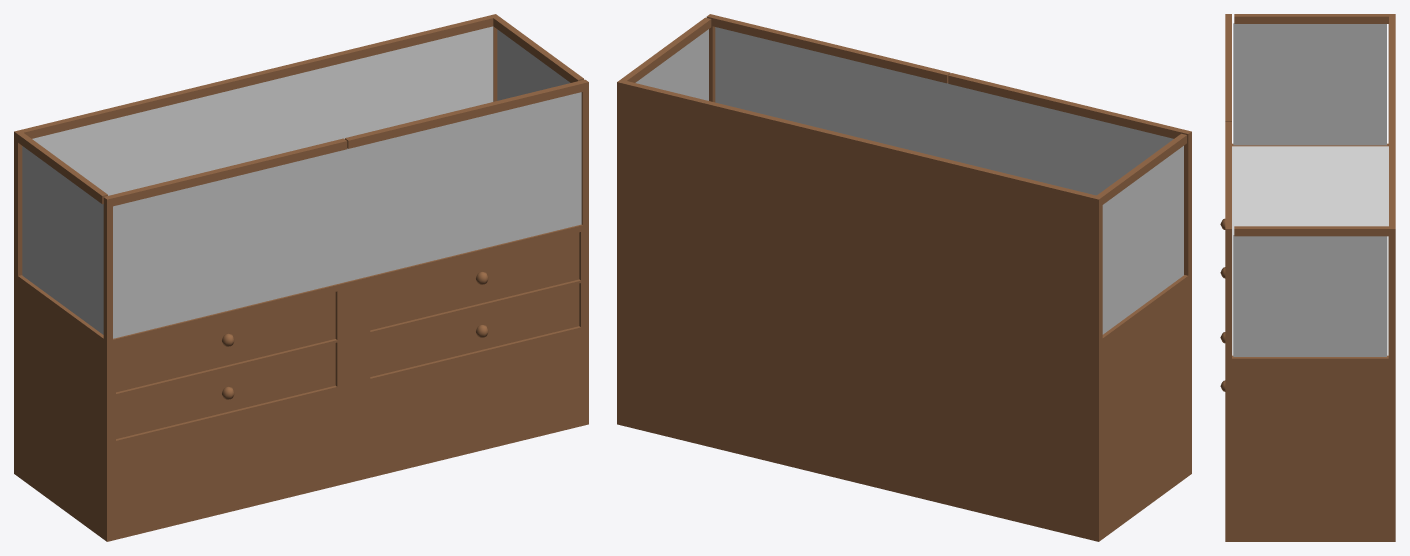
The model's file is DISPLAY 3.fbx.
3 renders of one model, left to right at view 1: azimuth 30°, elevation 25°; view 2: azimuth 150°, elevation 25°; view 3: azimuth 270°, elevation 25°, orthographic. The views are drawn at different scales.
Visible parts, largest first — view 1: Cube, Cube_1, Cube_4, Cube_5, Cube_3, Cube_2; view 2: Cube, Cube_1, Cube_3, Cube_2; view 3: Cube, Cube_3, Cube_2, Cube_5.
Boxes of the visible parts, x1,y1,x2,y2 form: Cube: (14,14,588,541); Cube_1: (113,92,581,338); Cube_4: (116,232,579,438); Cube_5: (32,26,493,195); Cube_3: (22,146,103,334); Cube_2: (497,29,570,100); Cube: (617,14,1191,541); Cube_1: (715,27,1173,195); Cube_3: (1102,146,1183,334); Cube_2: (635,29,708,100); Cube: (1225,14,1395,541); Cube_3: (1233,23,1386,145); Cube_2: (1233,235,1386,356); Cube_5: (1232,146,1388,355).
Size of the model in its own units: 530 by 360 by 183.
